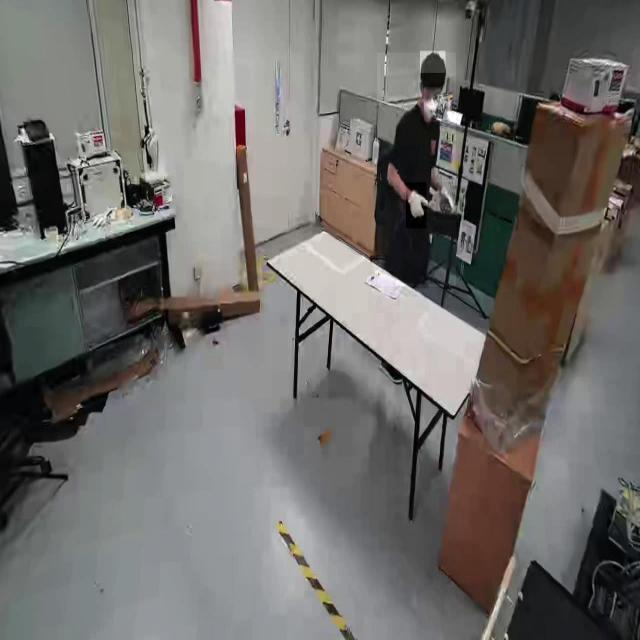gloves: (406, 182, 427, 230), (434, 182, 456, 222)
